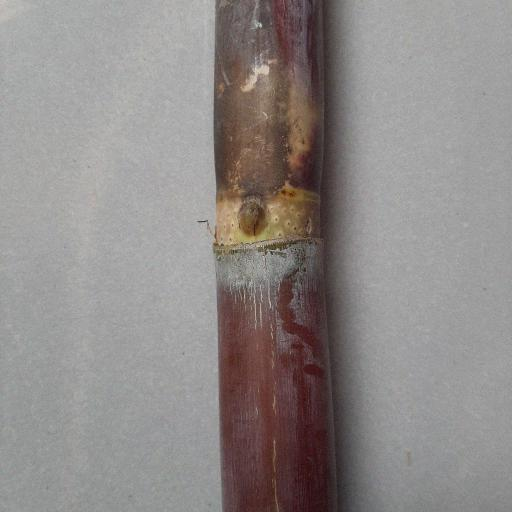Bud: (238, 201, 268, 237)
